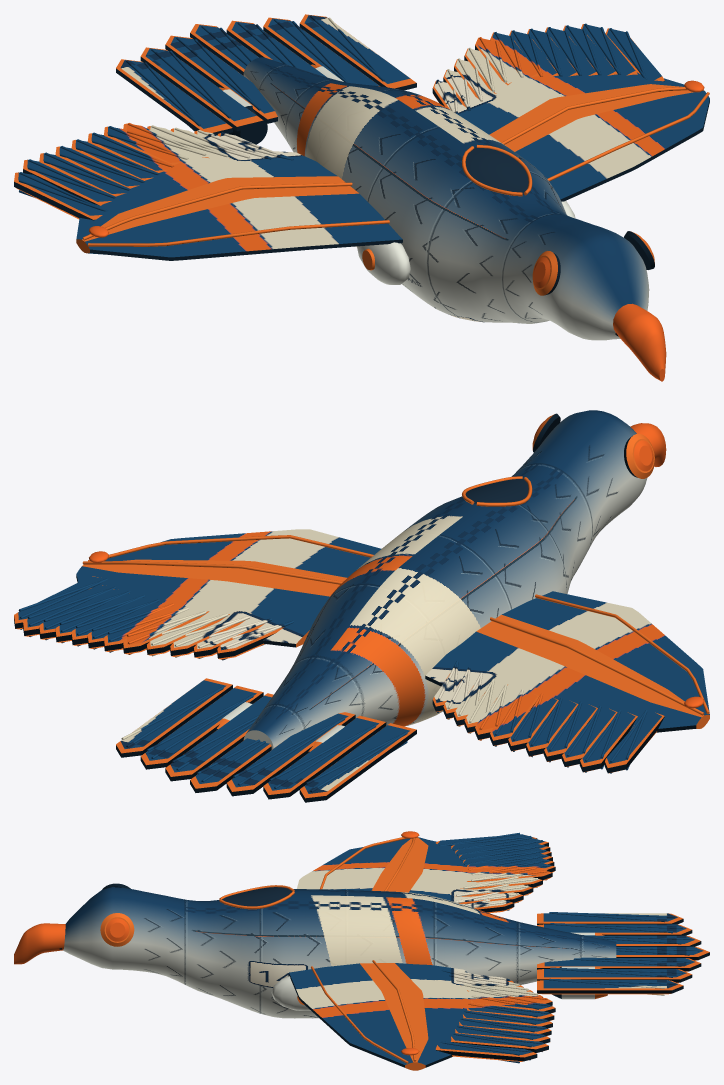
3 renders of one model, top to bottom at view 1: azimuth 30°, elevation 25°; view 2: azimuth 150°, elevation 25°; view 3: azimuth 270°, elevation 25°, orthographic. The views are drawn at different scales.
Visible parts, largest first — view 1: oxpecker_hull; view 2: oxpecker_hull; view 3: oxpecker_hull.
Part boxes in pixels (left/top/right/bottom): oxpecker_hull: left=14, top=14, right=709, bottom=381; oxpecker_hull: left=14, top=410, right=709, bottom=802; oxpecker_hull: left=14, top=831, right=709, bottom=1070.
Bounding box in the file's own units: 12.31 × 3.09 × 16.
1 material, 1 textured.
